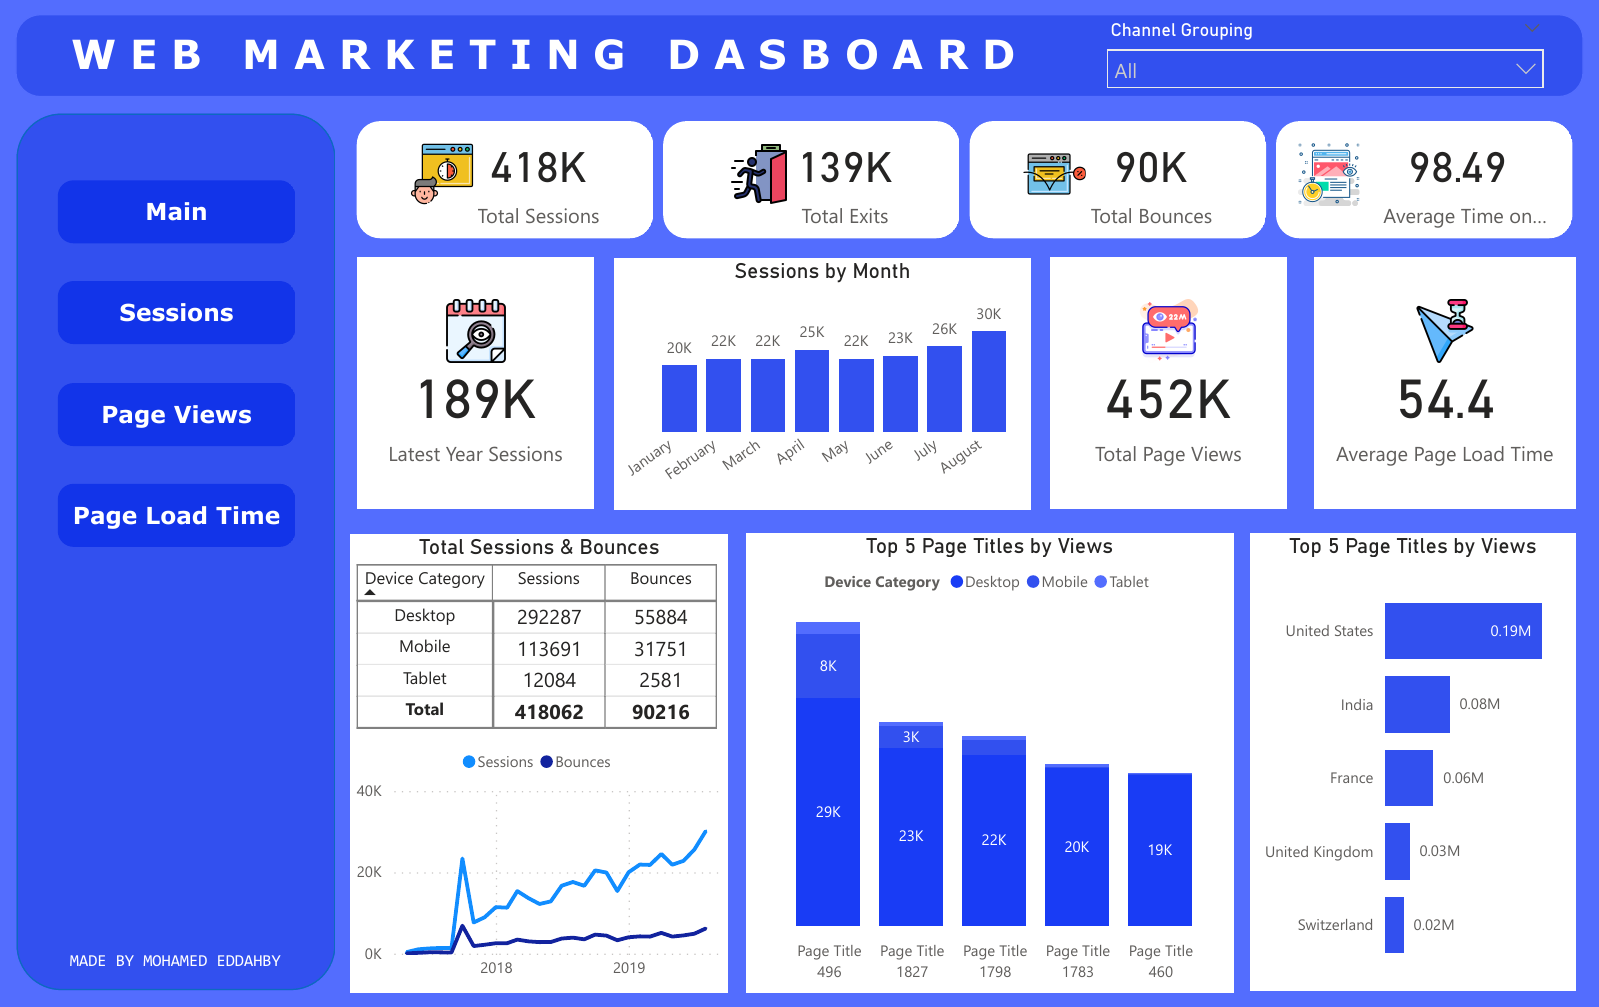

What the dashboard file says about the page in this screenshot:
{"tool":"powerbi","page":{"name":"Dashboard","canvas":[1280,800],"ordinal":0},"visuals":[{"type":"textbox","box":[13.3,11.1,1253.3,65.6],"z":0},{"type":"shape","box":[13.8,90,255,696.2],"z":1000},{"type":"actionButton","box":[47.1,142.9,190,50],"z":2000},{"type":"actionButton","box":[47.1,223.3,190,50],"z":3000},{"type":"actionButton","box":[47.1,303.8,190,50],"z":4000},{"type":"actionButton","box":[47.1,384.3,190,50],"z":5000},{"type":"cardVisual","fields":{"Data":["Sum(Web Marketing_Migrated Data.Sessions)","Sum(Web Marketing_Migrated Data.Exits)","Sum(Web Marketing_Migrated Data.Bounces)","Avg(Web Marketing_Migrated Data.Time on Page)"]},"box":[281.2,90.6,984.7,103.5],"z":6000},{"type":"cardVisual","fields":{"Data":["Sum(Web Marketing_Migrated Data.Sessions)"]},"box":[281.2,198.8,200,210],"z":7000},{"type":"clusteredColumnChart","title":"Sessions by Month","fields":{"Category":["Web Marketing_Migrated Data.Date.Variation.Date Hierarchy.Month"],"Y":["Sum(Web Marketing_Migrated Data.Sessions)"]},"box":[491.5,205.3,333.3,199.3],"z":8000},{"type":"cardVisual","fields":{"Data":["Sum(Web Marketing_Migrated Data.Pageviews)"]},"box":[835.2,198.8,200,210],"z":9000},{"type":"cardVisual","fields":{"Data":["Avg(Web Marketing_Migrated Data.Page Load Time)"]},"box":[1045.6,198.9,220,210],"z":10000},{"type":"pivotTable","title":"Total Sessions & Bounces","fields":{"Rows":["Web Marketing_Migrated Data.Device Category"],"Values":["Sum(Web Marketing_Migrated Data.Sessions)","Sum(Web Marketing_Migrated Data.Bounces)"]},"box":[281.2,423.8,301.2,161.2],"z":11000},{"type":"lineChart","title":"Sessions and Bounces Trends","fields":{"Category":["Web Marketing_Migrated Data.Date.Variation.Date Hierarchy.Year","Web Marketing_Migrated Data.Date.Variation.Date Hierarchy.Month"],"Y":["Sum(Web Marketing_Migrated Data.Sessions)","Sum(Web Marketing_Migrated Data.Bounces)"]},"box":[281.2,585,301.2,202.5],"z":12000},{"type":"columnChart","title":"Top 5 Page Titles by Views","fields":{"Category":["Web Marketing_Migrated Data.Page Title"],"Y":["Sum(Web Marketing_Migrated Data.Unique Pageviews)"],"Series":["Web Marketing_Migrated Data.Device Category"]},"box":[596.7,423.3,390,364.4],"z":13000},{"type":"clusteredBarChart","title":"Top 5 Page Titles by Views","fields":{"Y":["Sum(Web Marketing_Migrated Data.Unique Pageviews)"],"Category":["Web Marketing_Migrated Data.Country"]},"box":[1000,423.3,261.1,363.3],"z":14000},{"type":"slicer","fields":{"Values":["Web Marketing_Migrated Data.Channel Grouping"]},"box":[876.2,11.2,368.8,60.6],"z":15000},{"type":"textbox","box":[40,747.5,202.5,30],"z":16000}]}

Visuals, with their boxes in screenshot pixels (x1, y1, x2, y2), scaled from the page's 1280x800 canvas onto the 1599x1007 screenshot:
textbox: Rect(17, 14, 1582, 97)
shape: Rect(17, 113, 336, 990)
actionButton: Rect(59, 180, 296, 243)
actionButton: Rect(59, 281, 296, 344)
actionButton: Rect(59, 382, 296, 445)
actionButton: Rect(59, 484, 296, 547)
cardVisual - Sum(Web Marketing_Migrated Data.Sessions) x Sum(Web Marketing_Migrated Data.Exits): Rect(351, 114, 1581, 244)
cardVisual - Sum(Web Marketing_Migrated Data.Sessions): Rect(351, 250, 601, 515)
"Sessions by Month" clusteredColumnChart: Rect(614, 258, 1030, 509)
cardVisual - Sum(Web Marketing_Migrated Data.Pageviews): Rect(1043, 250, 1293, 515)
cardVisual - Avg(Web Marketing_Migrated Data.Page Load Time): Rect(1306, 250, 1581, 515)
"Total Sessions & Bounces" pivotTable: Rect(351, 533, 728, 736)
"Sessions and Bounces Trends" lineChart: Rect(351, 736, 728, 991)
"Top 5 Page Titles by Views" columnChart: Rect(745, 533, 1233, 992)
"Top 5 Page Titles by Views" clusteredBarChart: Rect(1249, 533, 1575, 990)
slicer - Web Marketing_Migrated Data.Channel Grouping: Rect(1095, 14, 1555, 90)
textbox: Rect(50, 941, 303, 979)
